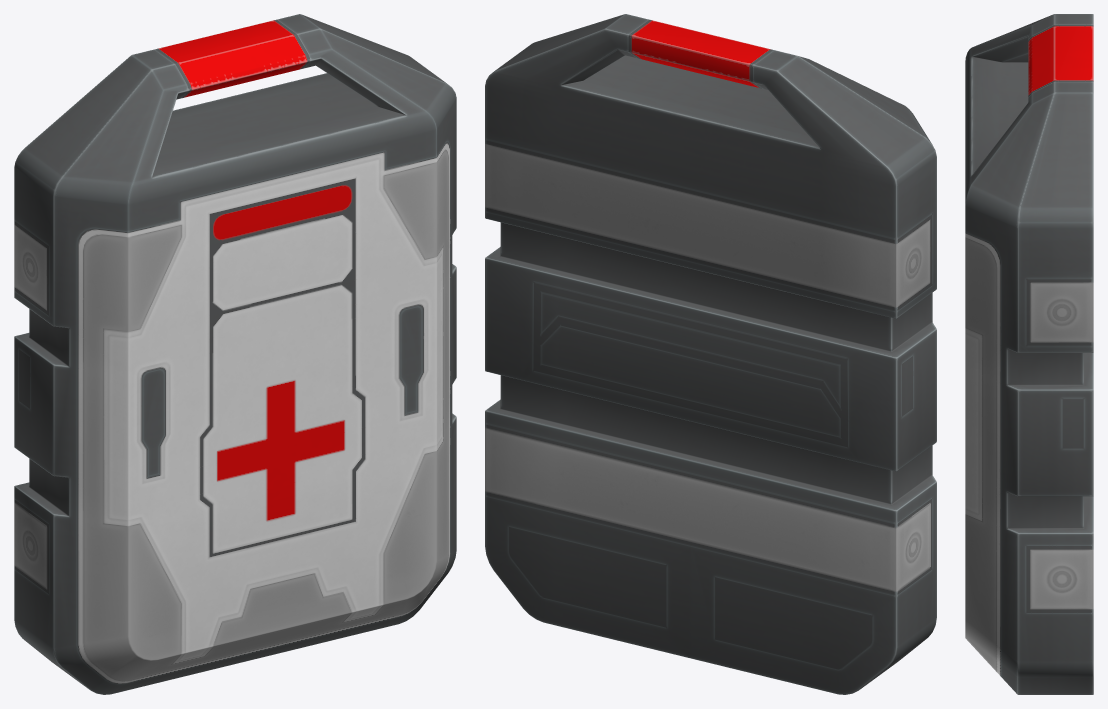
File: MedFirstAid02.FBX
The picture shows the model from 3 angles, left to right: view 1: azimuth 30°, elevation 25°; view 2: azimuth 150°, elevation 25°; view 3: azimuth 270°, elevation 25°; orthographic projection. The views are drawn at different scales.
Visible parts, largest first — view 1: MedFirstAid02; view 2: MedFirstAid02; view 3: MedFirstAid02.
Part boxes in pixels (x1=…): MedFirstAid02: x1=14, y1=14, x2=456, y2=694; MedFirstAid02: x1=485, y1=14, x2=936, y2=694; MedFirstAid02: x1=965, y1=14, x2=1093, y2=694.
Size of what is drawn, in the model's own units: 0.528 by 0.7458 by 0.1518.
